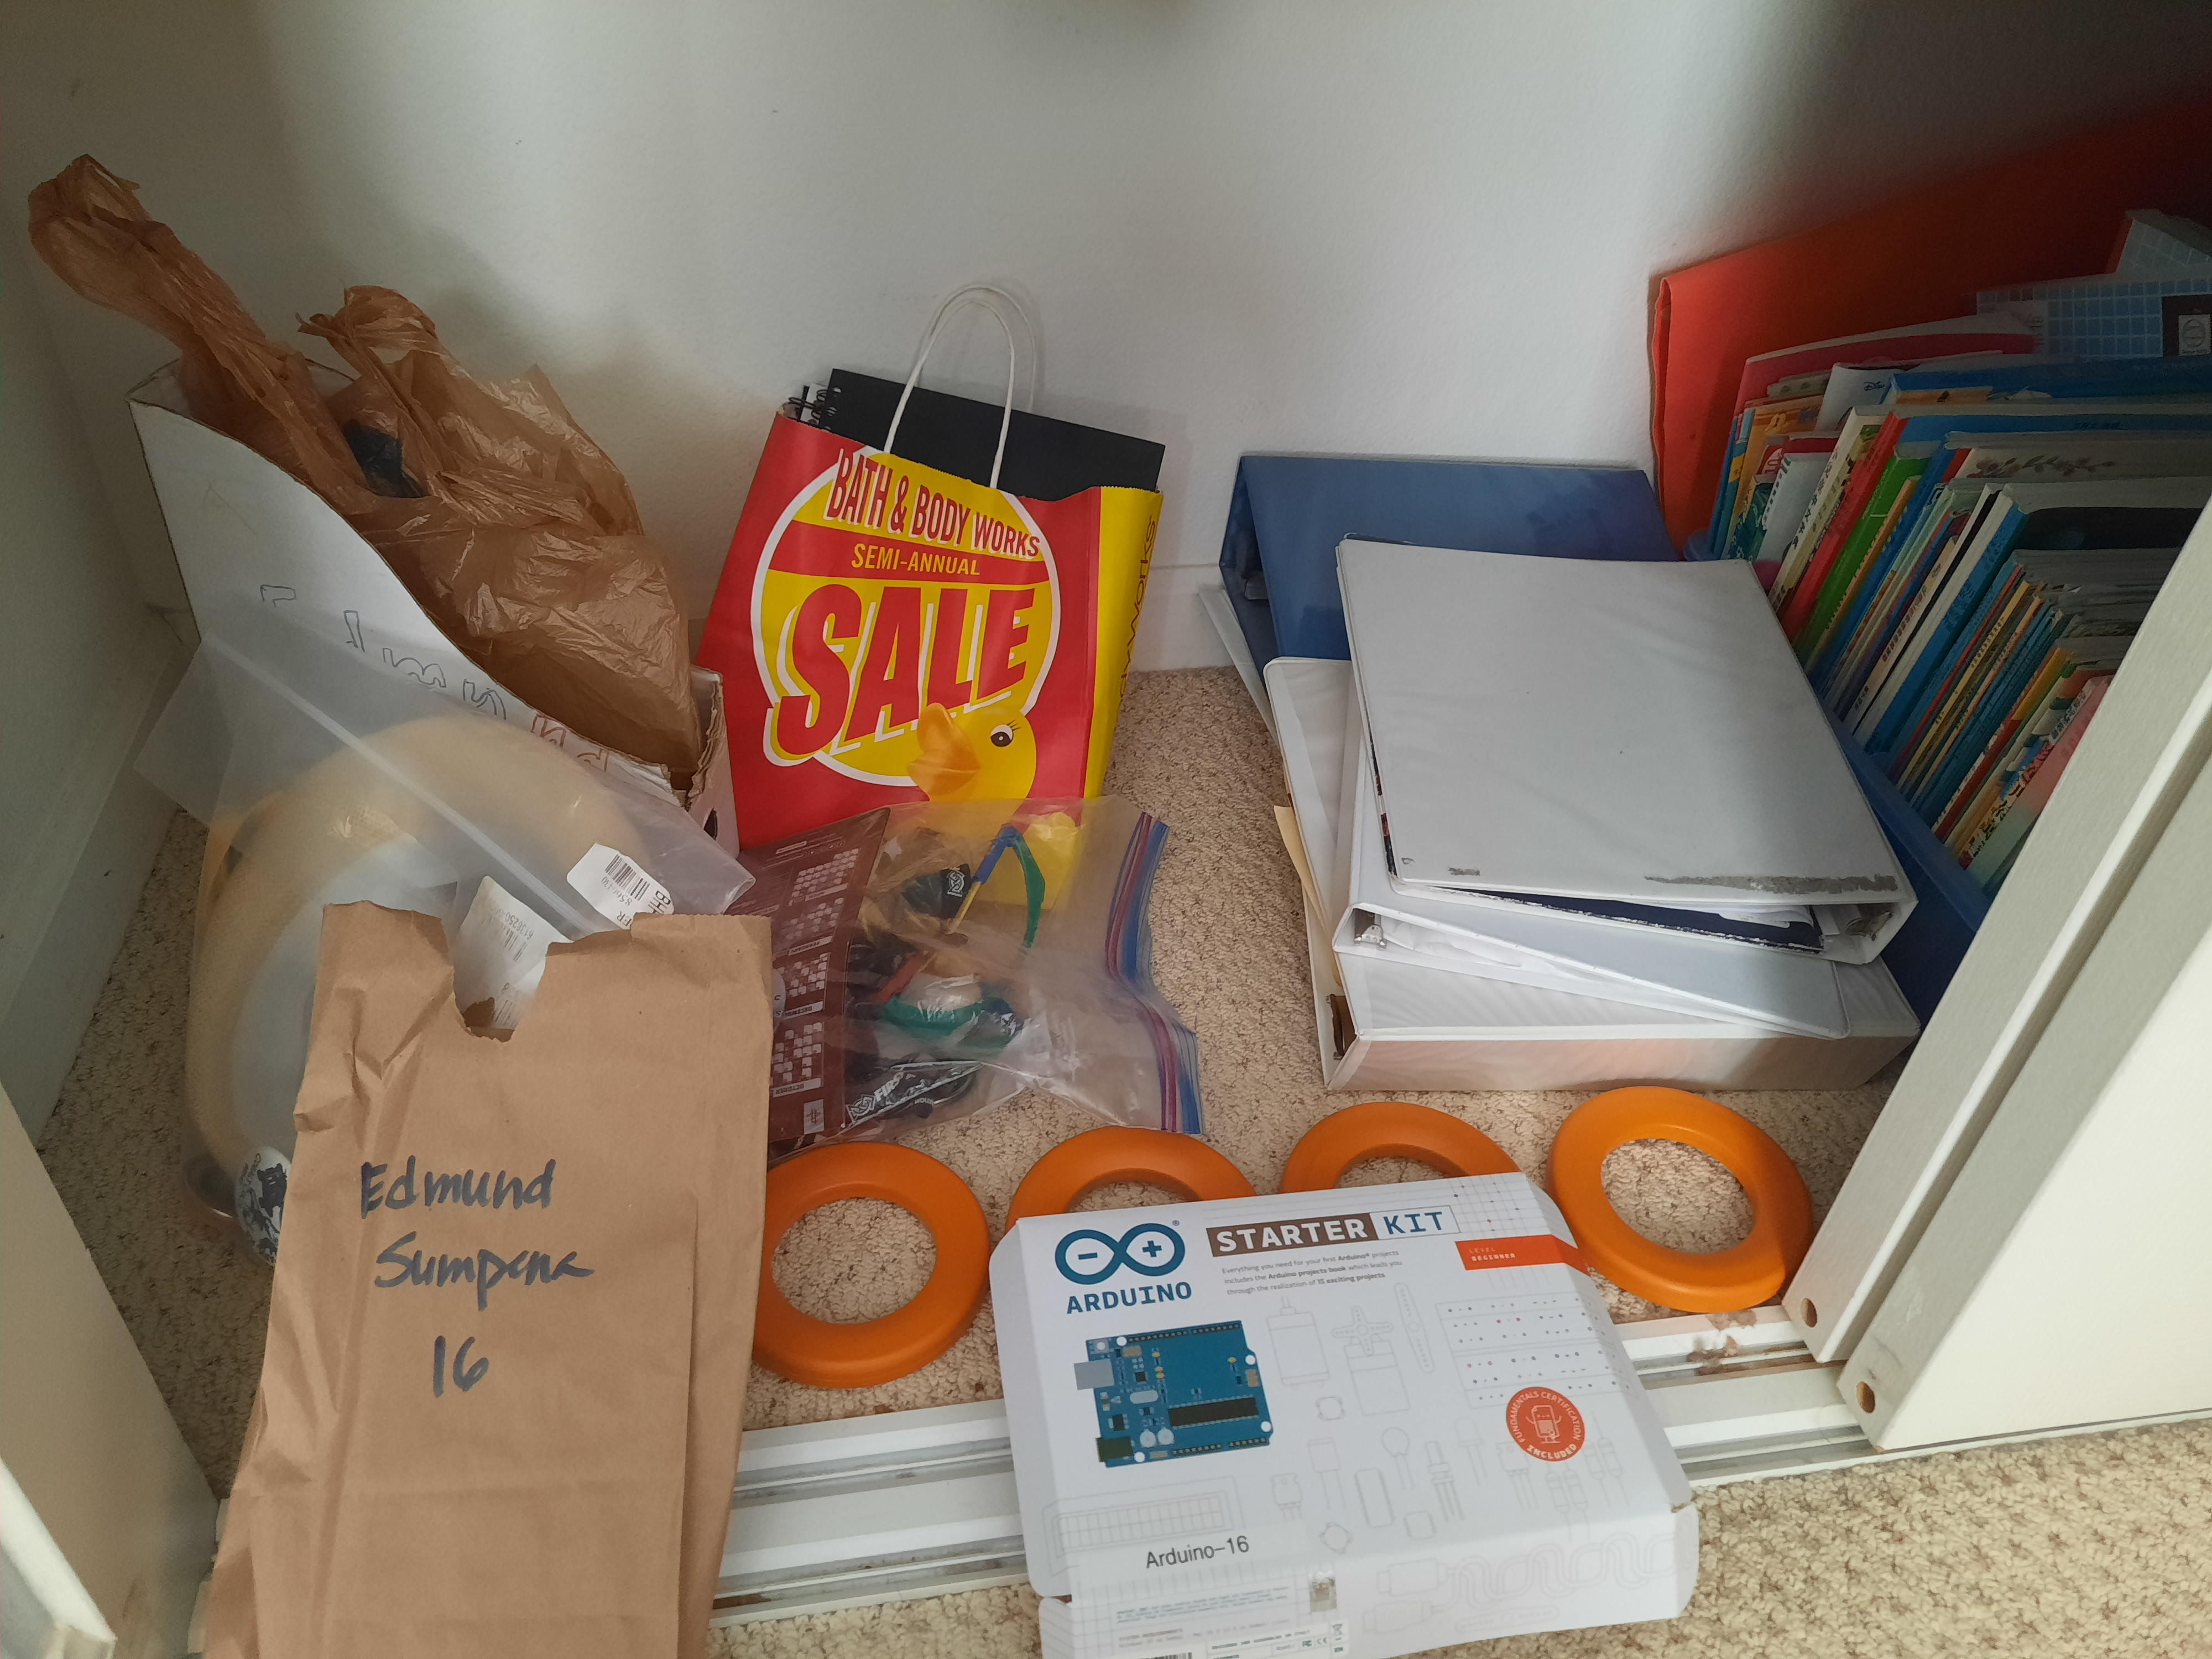OneStack: (1543, 1087, 1820, 1305), (761, 1154, 979, 1378), (1278, 1107, 1512, 1225), (1017, 1134, 1251, 1249)
